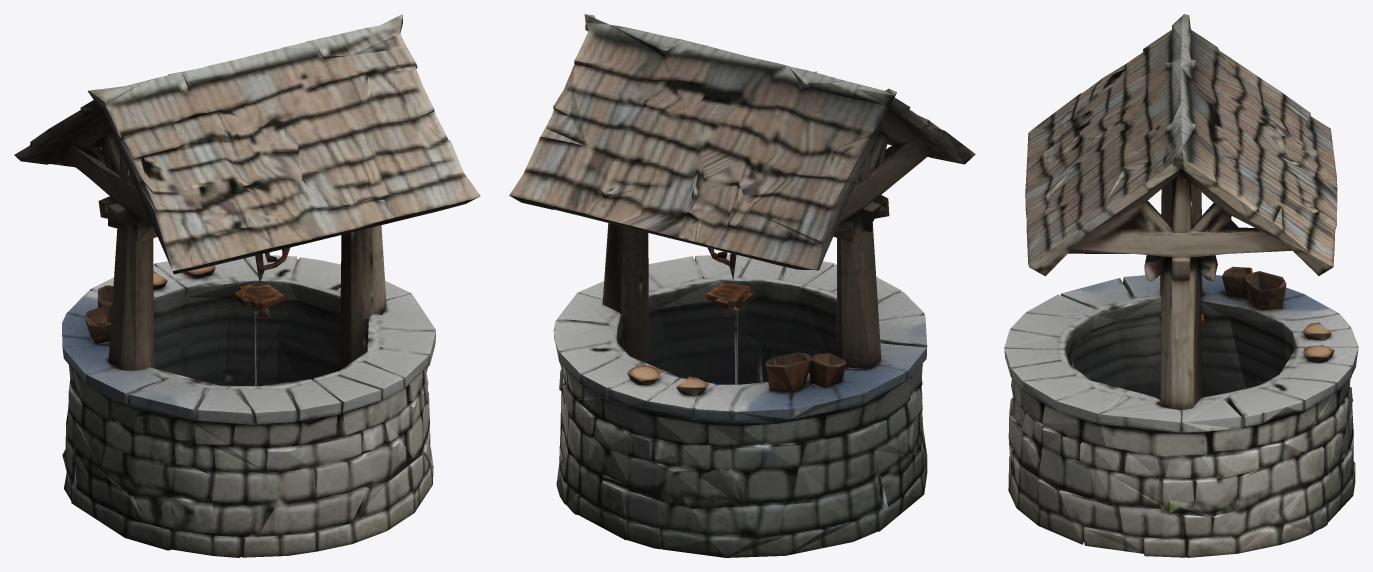
Rendered from well.glb.
The picture shows the model from 3 angles, left to right: view 1: azimuth 30°, elevation 25°; view 2: azimuth 150°, elevation 25°; view 3: azimuth 270°, elevation 25°; orthographic projection. The views are drawn at different scales.
Parts seen in each view (by area): view 1: geometry_0; view 2: geometry_0; view 3: geometry_0.
Part boxes in pixels (bbox=[...]): geometry_0: bbox=[14, 14, 480, 557]; geometry_0: bbox=[509, 14, 975, 557]; geometry_0: bbox=[1004, 14, 1358, 557].
Bounding box in the file's own units: 0.808 × 0.9986 × 0.7995.
Materials: 1 (1 with a texture image).
